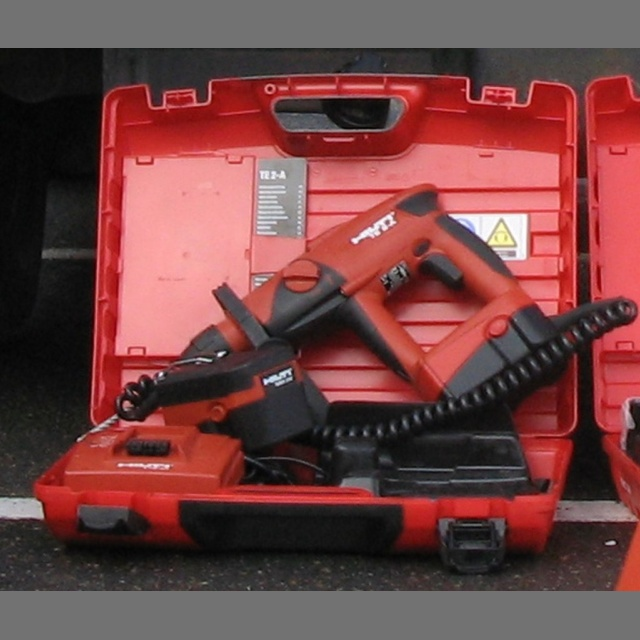drill: (138, 149, 573, 423)
